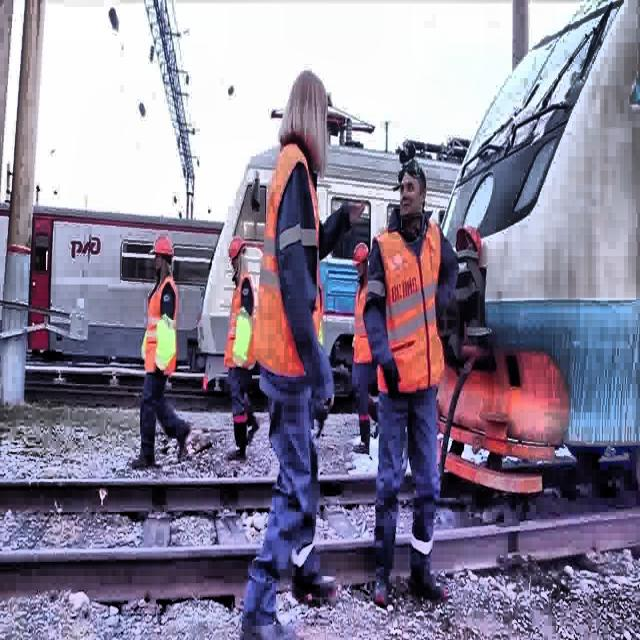safety_helmet: (454, 226, 482, 254), (150, 235, 176, 257), (353, 242, 369, 269), (228, 241, 244, 266)
safety_jacket: (255, 144, 319, 373), (375, 217, 443, 397), (142, 278, 178, 379), (222, 272, 255, 370), (152, 314, 178, 374), (352, 278, 370, 364), (231, 308, 252, 371)
